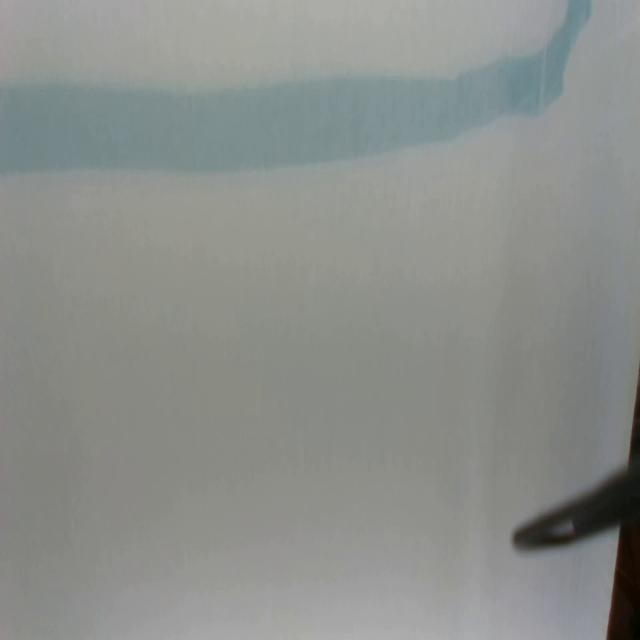color bleeding: (0, 0, 596, 188)
